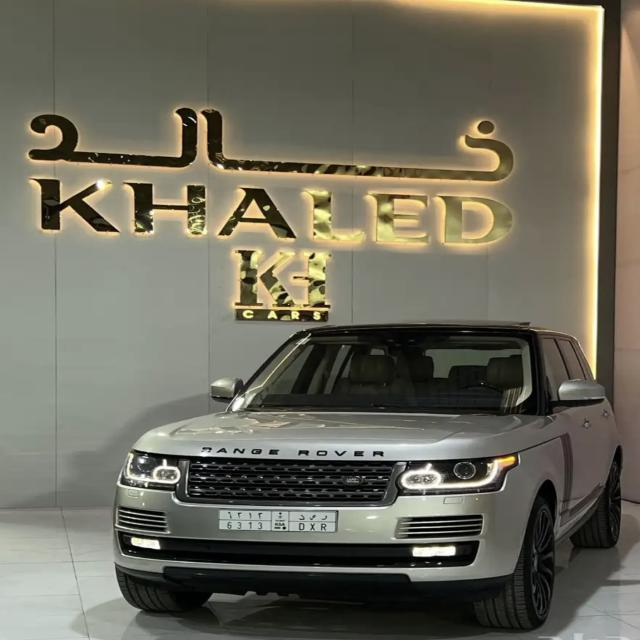license_plate: (218, 508, 338, 534)
